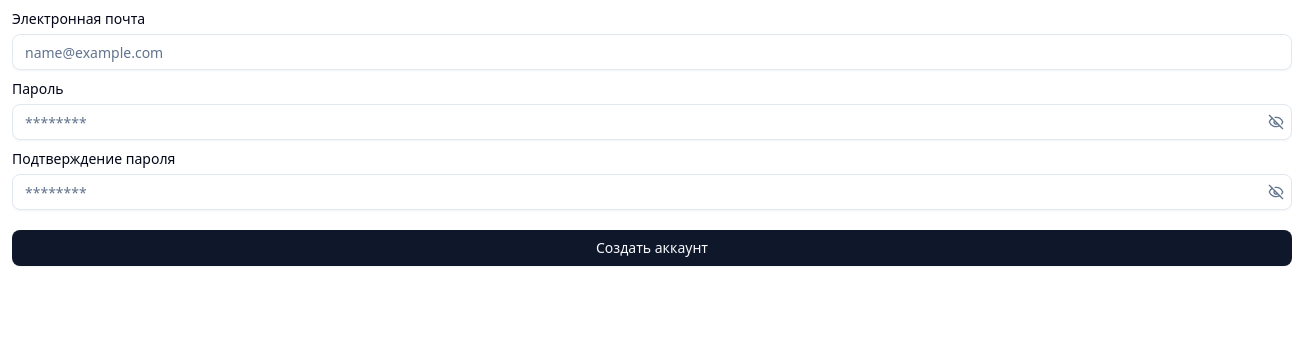
Scenario: SignUpForm › shows validation error for short password
Type "user@example.com" into the field labelled "Электронная почта" at {"x": 652, "y": 52}, box top-left (12, 34), bottom-right (1292, 70)
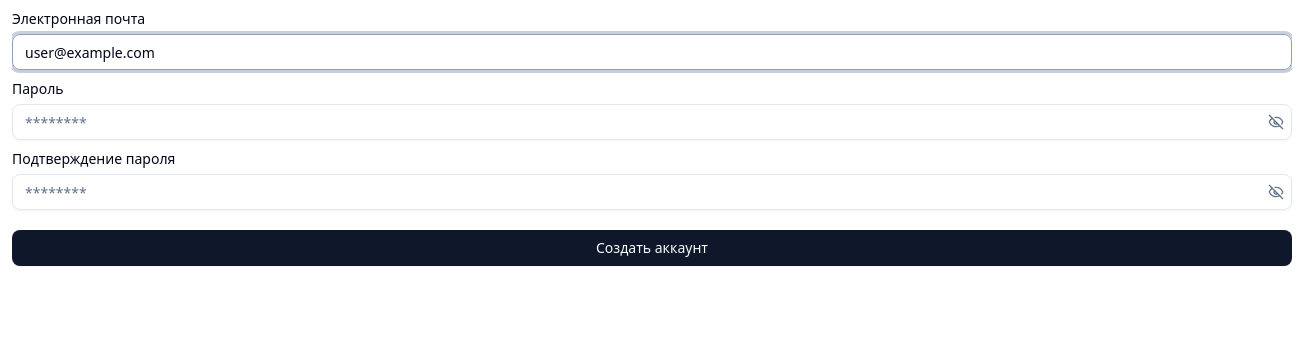
Type "short" into the password field labelled "Пароль" at {"x": 652, "y": 122}, box top-left (12, 104), bottom-right (1292, 140)
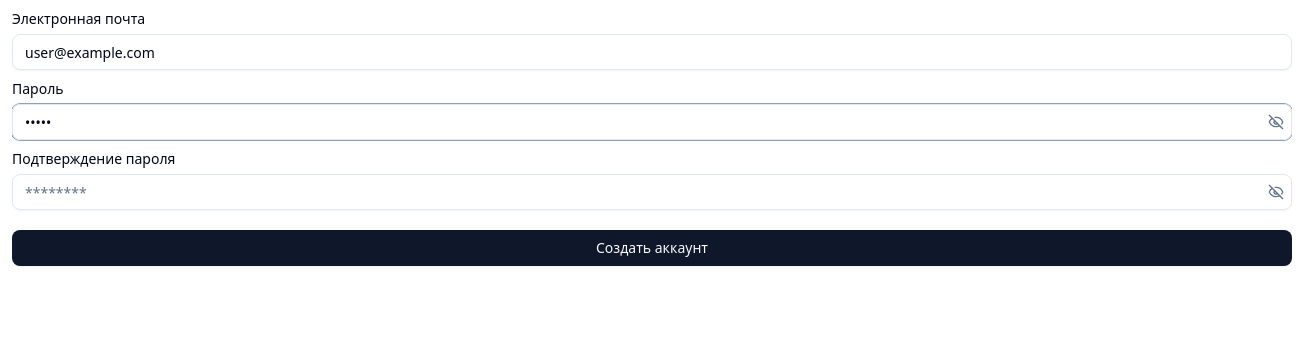
Click the button "Создать аккаунт" at {"x": 652, "y": 248}, box top-left (12, 230), bottom-right (1292, 266)
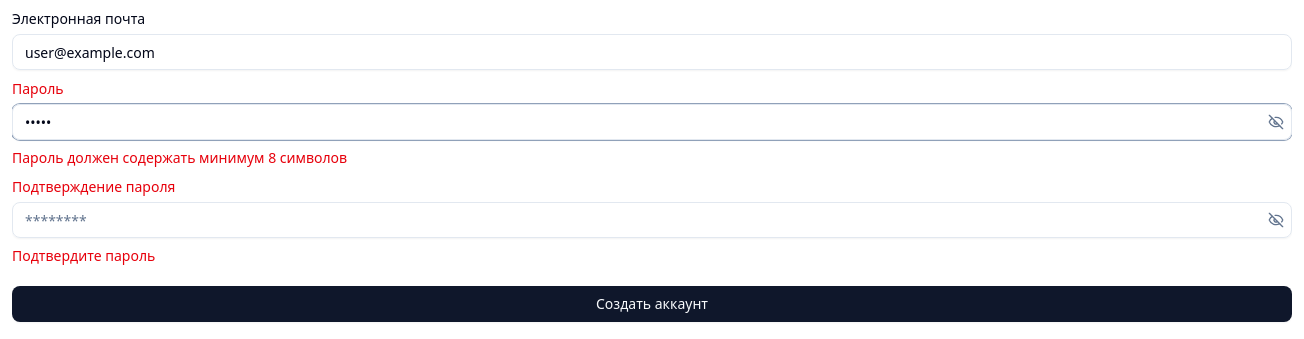
Expected: the text "Пароль должен содержать минимум 8 символов" is shown, top-left (12, 148), bottom-right (347, 167)
